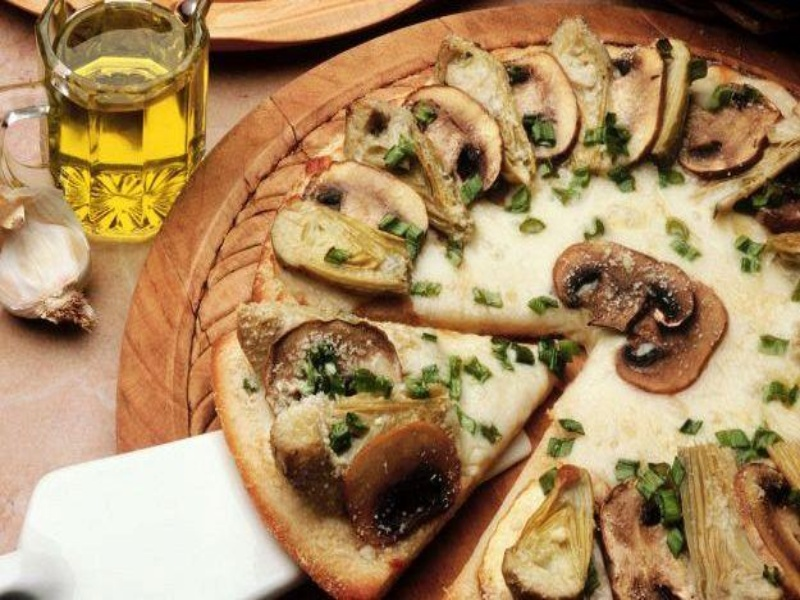champignon: (546, 235, 697, 339), (392, 82, 506, 203), (304, 158, 433, 255), (485, 46, 583, 167), (686, 78, 776, 182)
